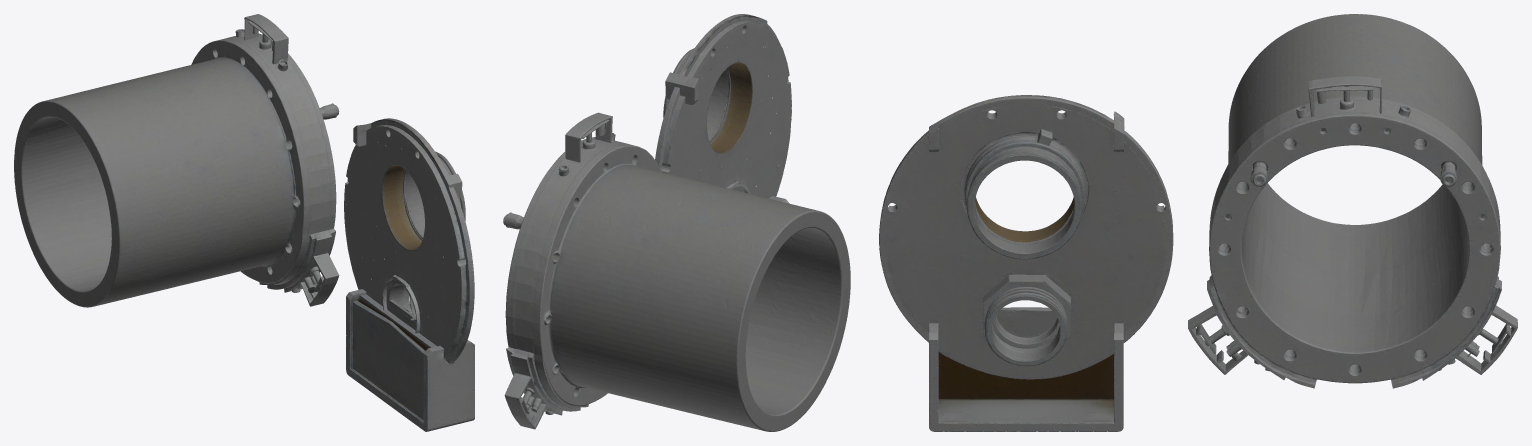
The model's file is mechanical-flange-3d-model.glb.
3 views of the same model, side by side, from view 1: azimuth 30°, elevation 25°; view 2: azimuth 150°, elevation 25°; view 3: azimuth 270°, elevation 25° (orthographic). The views are drawn at different scales.
Parts seen in each view (by area): view 1: tripo_node_64e3fc3e-f488-4cb0-bd8e-118c8f12f126; view 2: tripo_node_64e3fc3e-f488-4cb0-bd8e-118c8f12f126; view 3: tripo_node_64e3fc3e-f488-4cb0-bd8e-118c8f12f126.
Part boxes in pixels (x1,y1,x2,y2): tripo_node_64e3fc3e-f488-4cb0-bd8e-118c8f12f126: [14, 14, 474, 431]; tripo_node_64e3fc3e-f488-4cb0-bd8e-118c8f12f126: [503, 14, 850, 431]; tripo_node_64e3fc3e-f488-4cb0-bd8e-118c8f12f126: [879, 14, 1517, 431].
Size of the model in its own units: 0.5123 by 0.5734 by 0.9991.
1 material, 1 textured.
